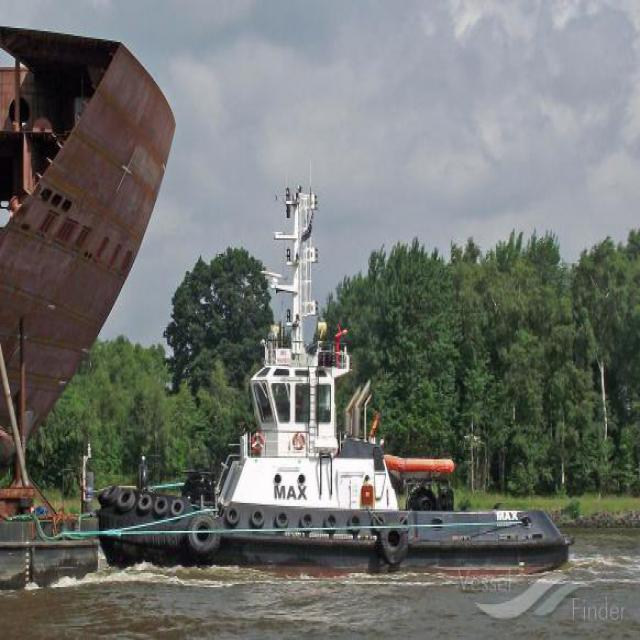tugboat: (100, 349, 574, 570)
